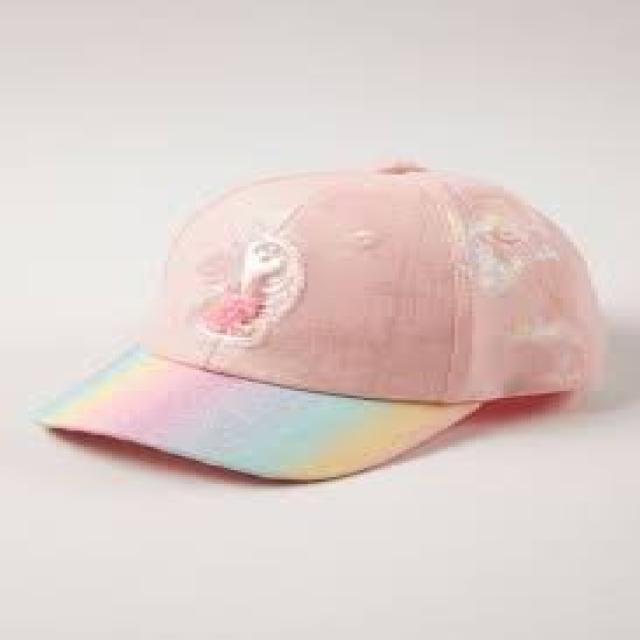cap: (8, 133, 632, 492)
